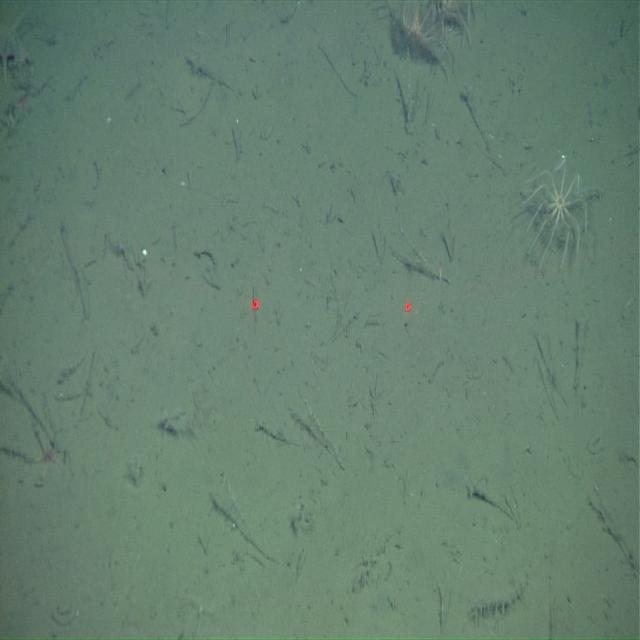Brittle Star: (28, 432, 70, 487)
Not Brittle Star: (518, 146, 594, 272), (464, 573, 528, 629), (0, 6, 38, 89)
